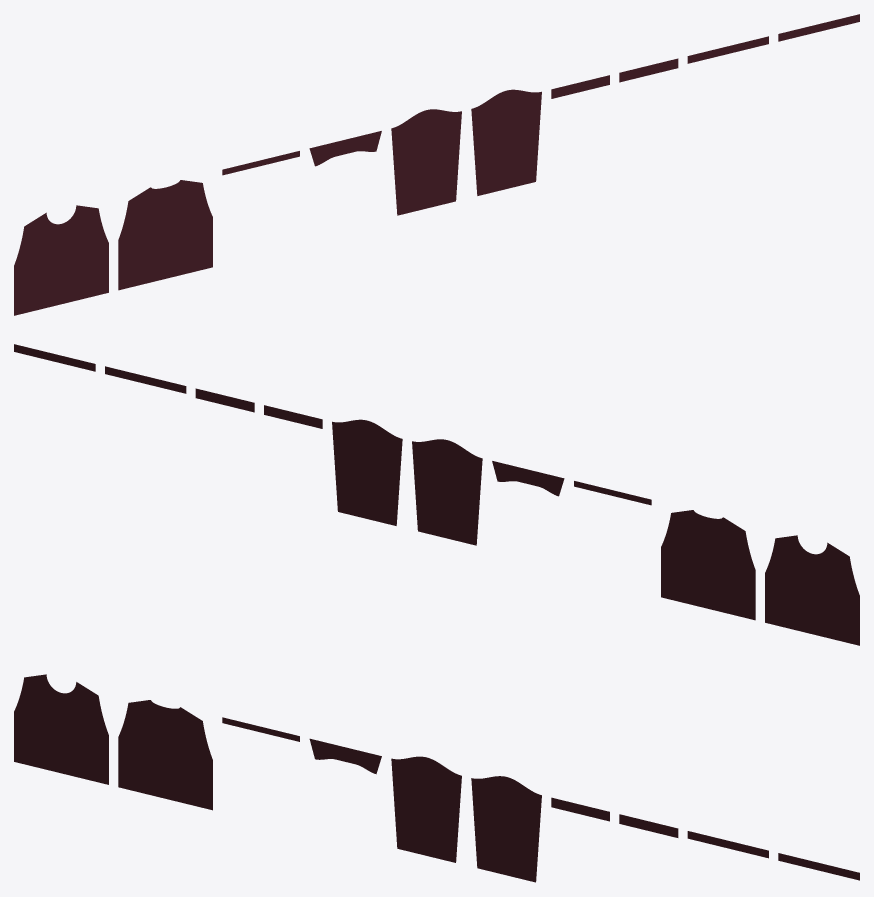
File: chaqueta-cuero-sintetico-vino-talla-XS.glb
3 views of the same model, one above another, from view 1: azimuth 30°, elevation 25°; view 2: azimuth 150°, elevation 25°; view 3: azimuth 330°, elevation 25° (orthographic).
Parts seen in each view (by area): view 1: patron-espalda, patron-delantero, patron-manga-der, patron-manga-izq, patron-cuello-hoja, patron-banda-delantera, patron-banda-trasera, patron-puno-der, patron-puno-izq; view 2: patron-espalda, patron-delantero, patron-manga-der, patron-manga-izq, patron-cuello-hoja, patron-banda-delantera, patron-banda-trasera, patron-puno-der, patron-puno-izq; view 3: patron-espalda, patron-delantero, patron-manga-der, patron-manga-izq, patron-cuello-hoja, patron-banda-delantera, patron-banda-trasera, patron-puno-der, patron-puno-izq, patron-cuello-pie.
Boxes of the visible parts, x1,y1,x2,y2 form: patron-espalda: [118, 180, 212, 290]; patron-delantero: [14, 205, 108, 315]; patron-manga-der: [471, 89, 541, 195]; patron-manga-izq: [391, 109, 461, 215]; patron-cuello-hoja: [309, 131, 381, 166]; patron-banda-delantera: [687, 36, 768, 63]; patron-banda-trasera: [778, 14, 859, 41]; patron-puno-der: [619, 58, 678, 82]; patron-puno-izq: [551, 75, 609, 98]; patron-espalda: [661, 510, 755, 620]; patron-delantero: [765, 535, 859, 645]; patron-manga-der: [332, 419, 402, 525]; patron-manga-izq: [412, 439, 482, 545]; patron-cuello-hoja: [492, 461, 564, 496]; patron-banda-delantera: [105, 366, 186, 393]; patron-banda-trasera: [14, 344, 95, 371]; patron-puno-der: [195, 388, 254, 412]; patron-puno-izq: [264, 405, 322, 428]; patron-espalda: [118, 700, 212, 810]; patron-delantero: [14, 674, 108, 784]; patron-manga-der: [471, 776, 541, 882]; patron-manga-izq: [391, 756, 461, 862]; patron-cuello-hoja: [309, 738, 381, 774]; patron-banda-delantera: [687, 831, 768, 858]; patron-banda-trasera: [778, 853, 859, 880]; patron-puno-der: [619, 814, 678, 837]; patron-puno-izq: [551, 797, 609, 821]; patron-cuello-pie: [222, 717, 299, 741].
Bounding box in the file's own units: 4.55 × 0.54 × 0.
